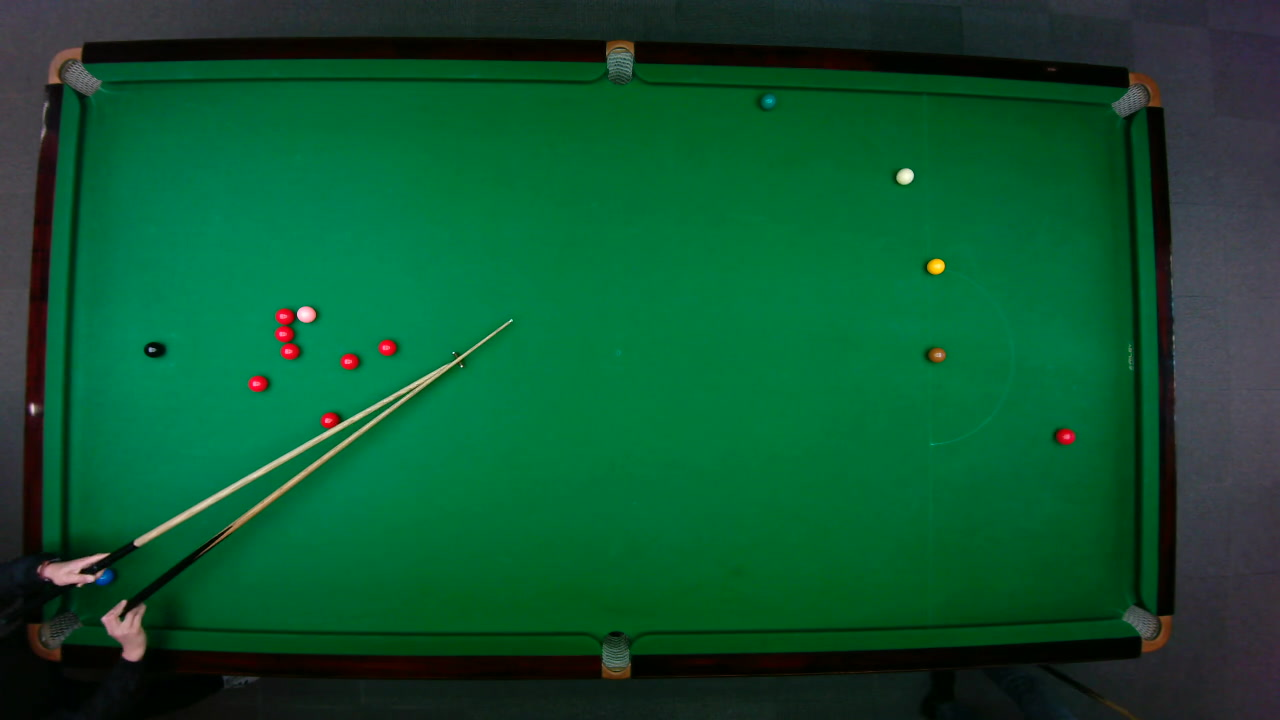bag: (26, 609, 82, 661), (45, 46, 101, 96), (1119, 603, 1171, 651), (1108, 71, 1161, 118), (600, 629, 630, 680), (605, 38, 633, 85)
black: (142, 340, 164, 358)
blue: (94, 568, 115, 585)
brown: (926, 346, 946, 362)
cue: (83, 309, 521, 622)
green: (759, 92, 776, 110)
pink: (294, 304, 317, 323)
red: (1054, 426, 1076, 445), (246, 374, 268, 392), (273, 306, 294, 324), (278, 342, 300, 359), (272, 325, 294, 342), (377, 338, 397, 356), (339, 352, 359, 369), (319, 411, 339, 427)
white: (894, 166, 914, 185)
yellow: (925, 257, 945, 274)
zone: (926, 267, 1013, 445)
